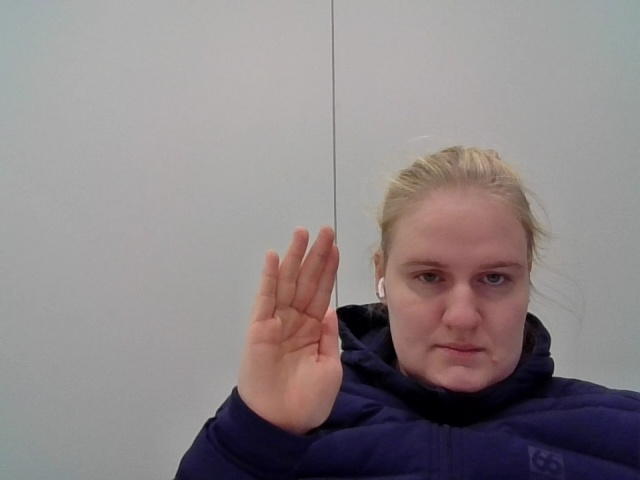nada: (234, 221, 351, 436)
